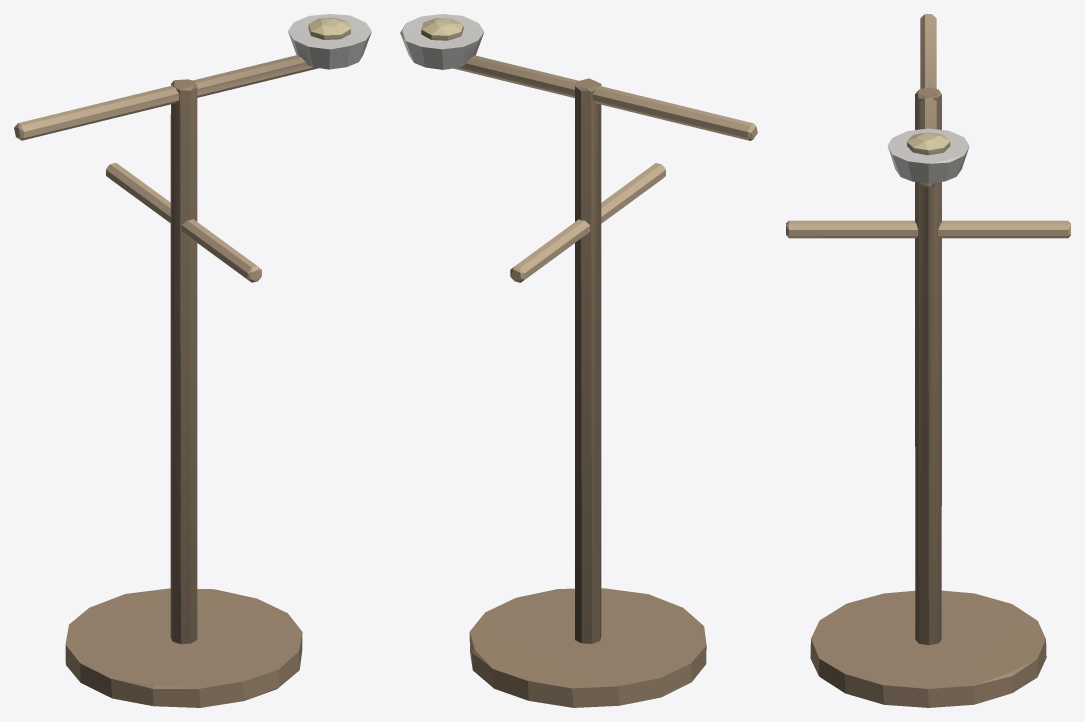
The model's file is petshop_bird_perch_low.glb.
The picture shows the model from 3 angles, left to right: view 1: azimuth 30°, elevation 25°; view 2: azimuth 150°, elevation 25°; view 3: azimuth 270°, elevation 25°; orthographic projection.
Size of the model in its own units: 0.8373 by 1.38 by 0.6005.
